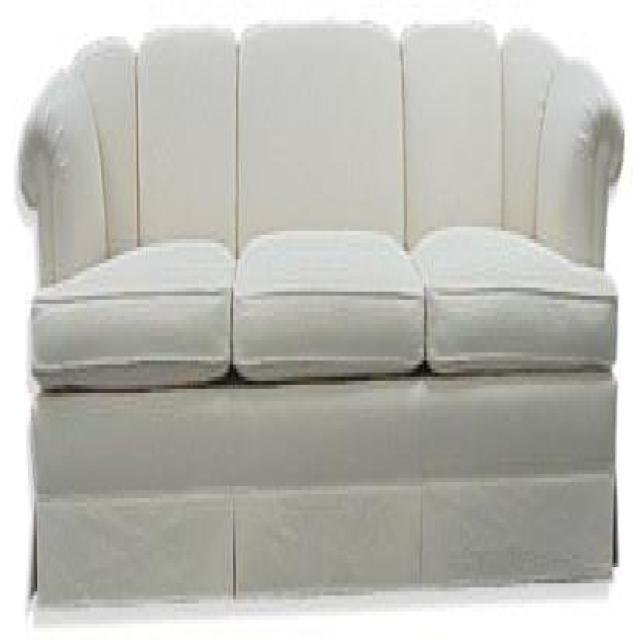sofa: (18, 19, 628, 612)
